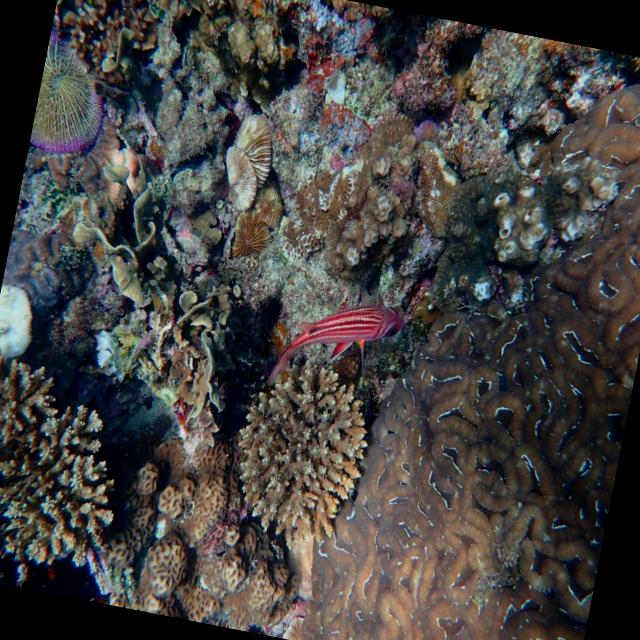Asker Baligi: (245, 264, 431, 446)
